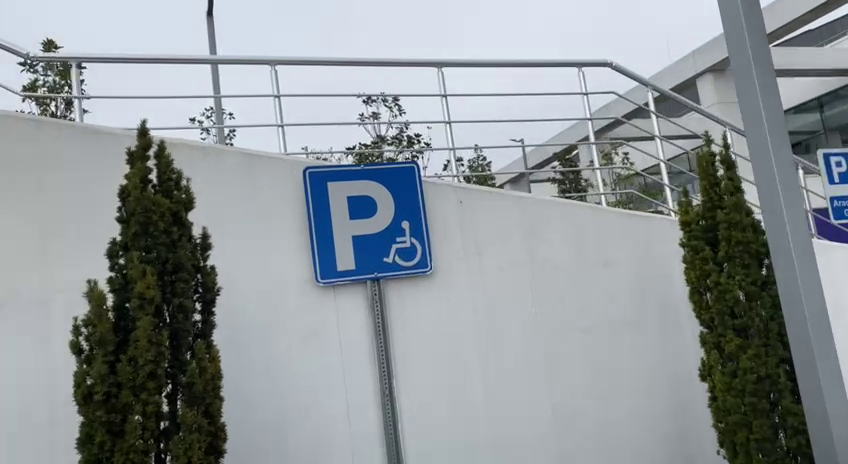parking: (301, 160, 434, 286), (821, 149, 848, 184)
